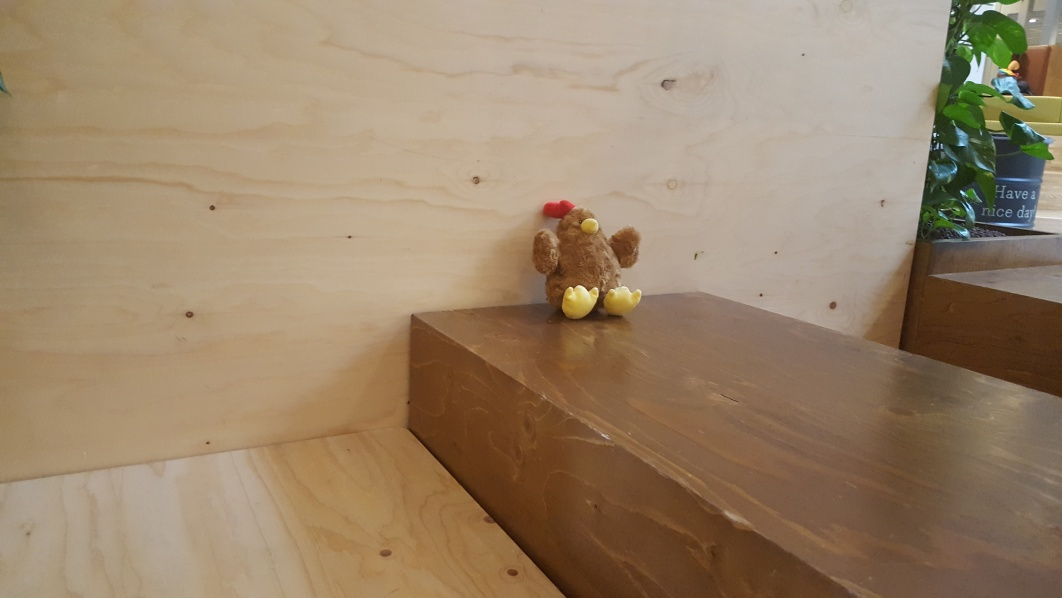chicken: (529, 197, 645, 315)
